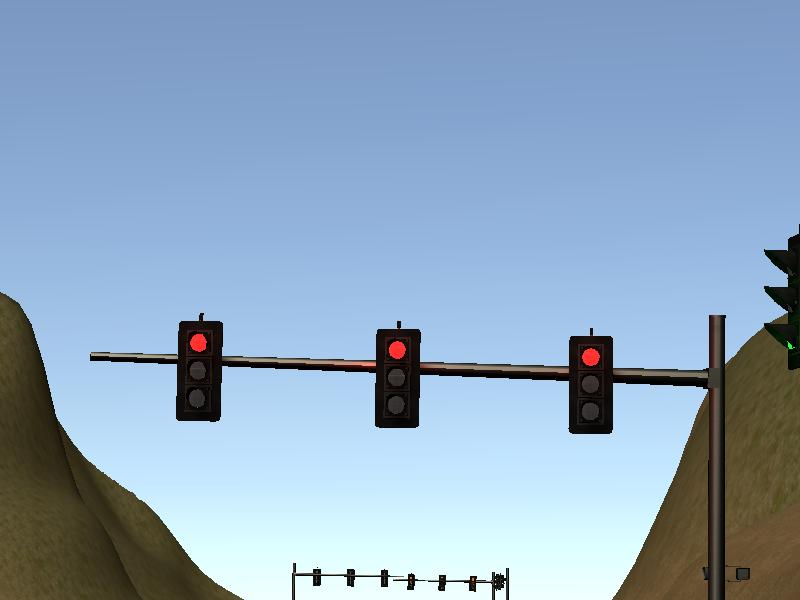red: (176, 318, 222, 422), (375, 329, 421, 433), (567, 335, 613, 439)
